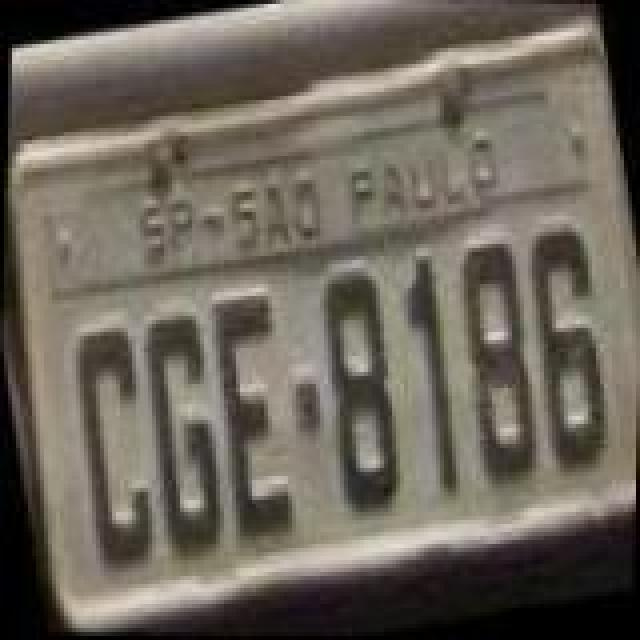1: (384, 244, 476, 496)
6: (508, 216, 628, 476)
8: (298, 262, 418, 518), (434, 236, 554, 492)
C: (52, 318, 172, 574)
E: (190, 290, 314, 550)
G: (120, 304, 240, 564)
